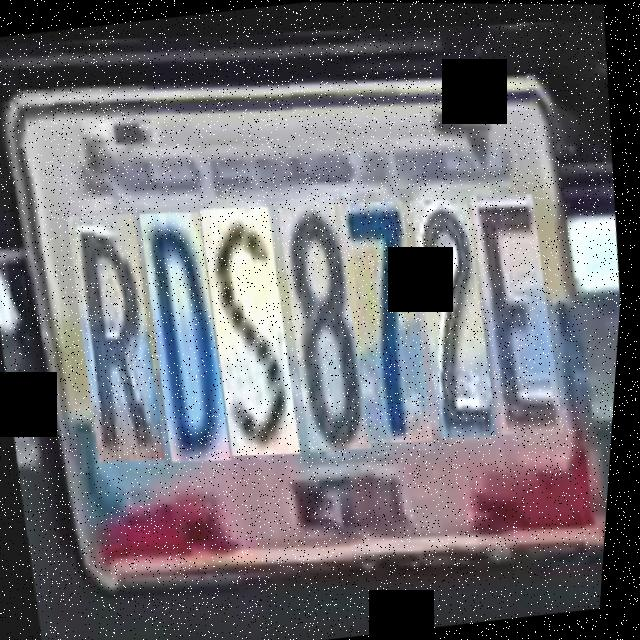2: (396, 184, 508, 437)
7: (323, 187, 445, 443)
8: (263, 192, 383, 451)
D: (126, 201, 244, 464)
E: (457, 178, 575, 431)
R: (53, 203, 178, 466)
S: (186, 194, 312, 457)
